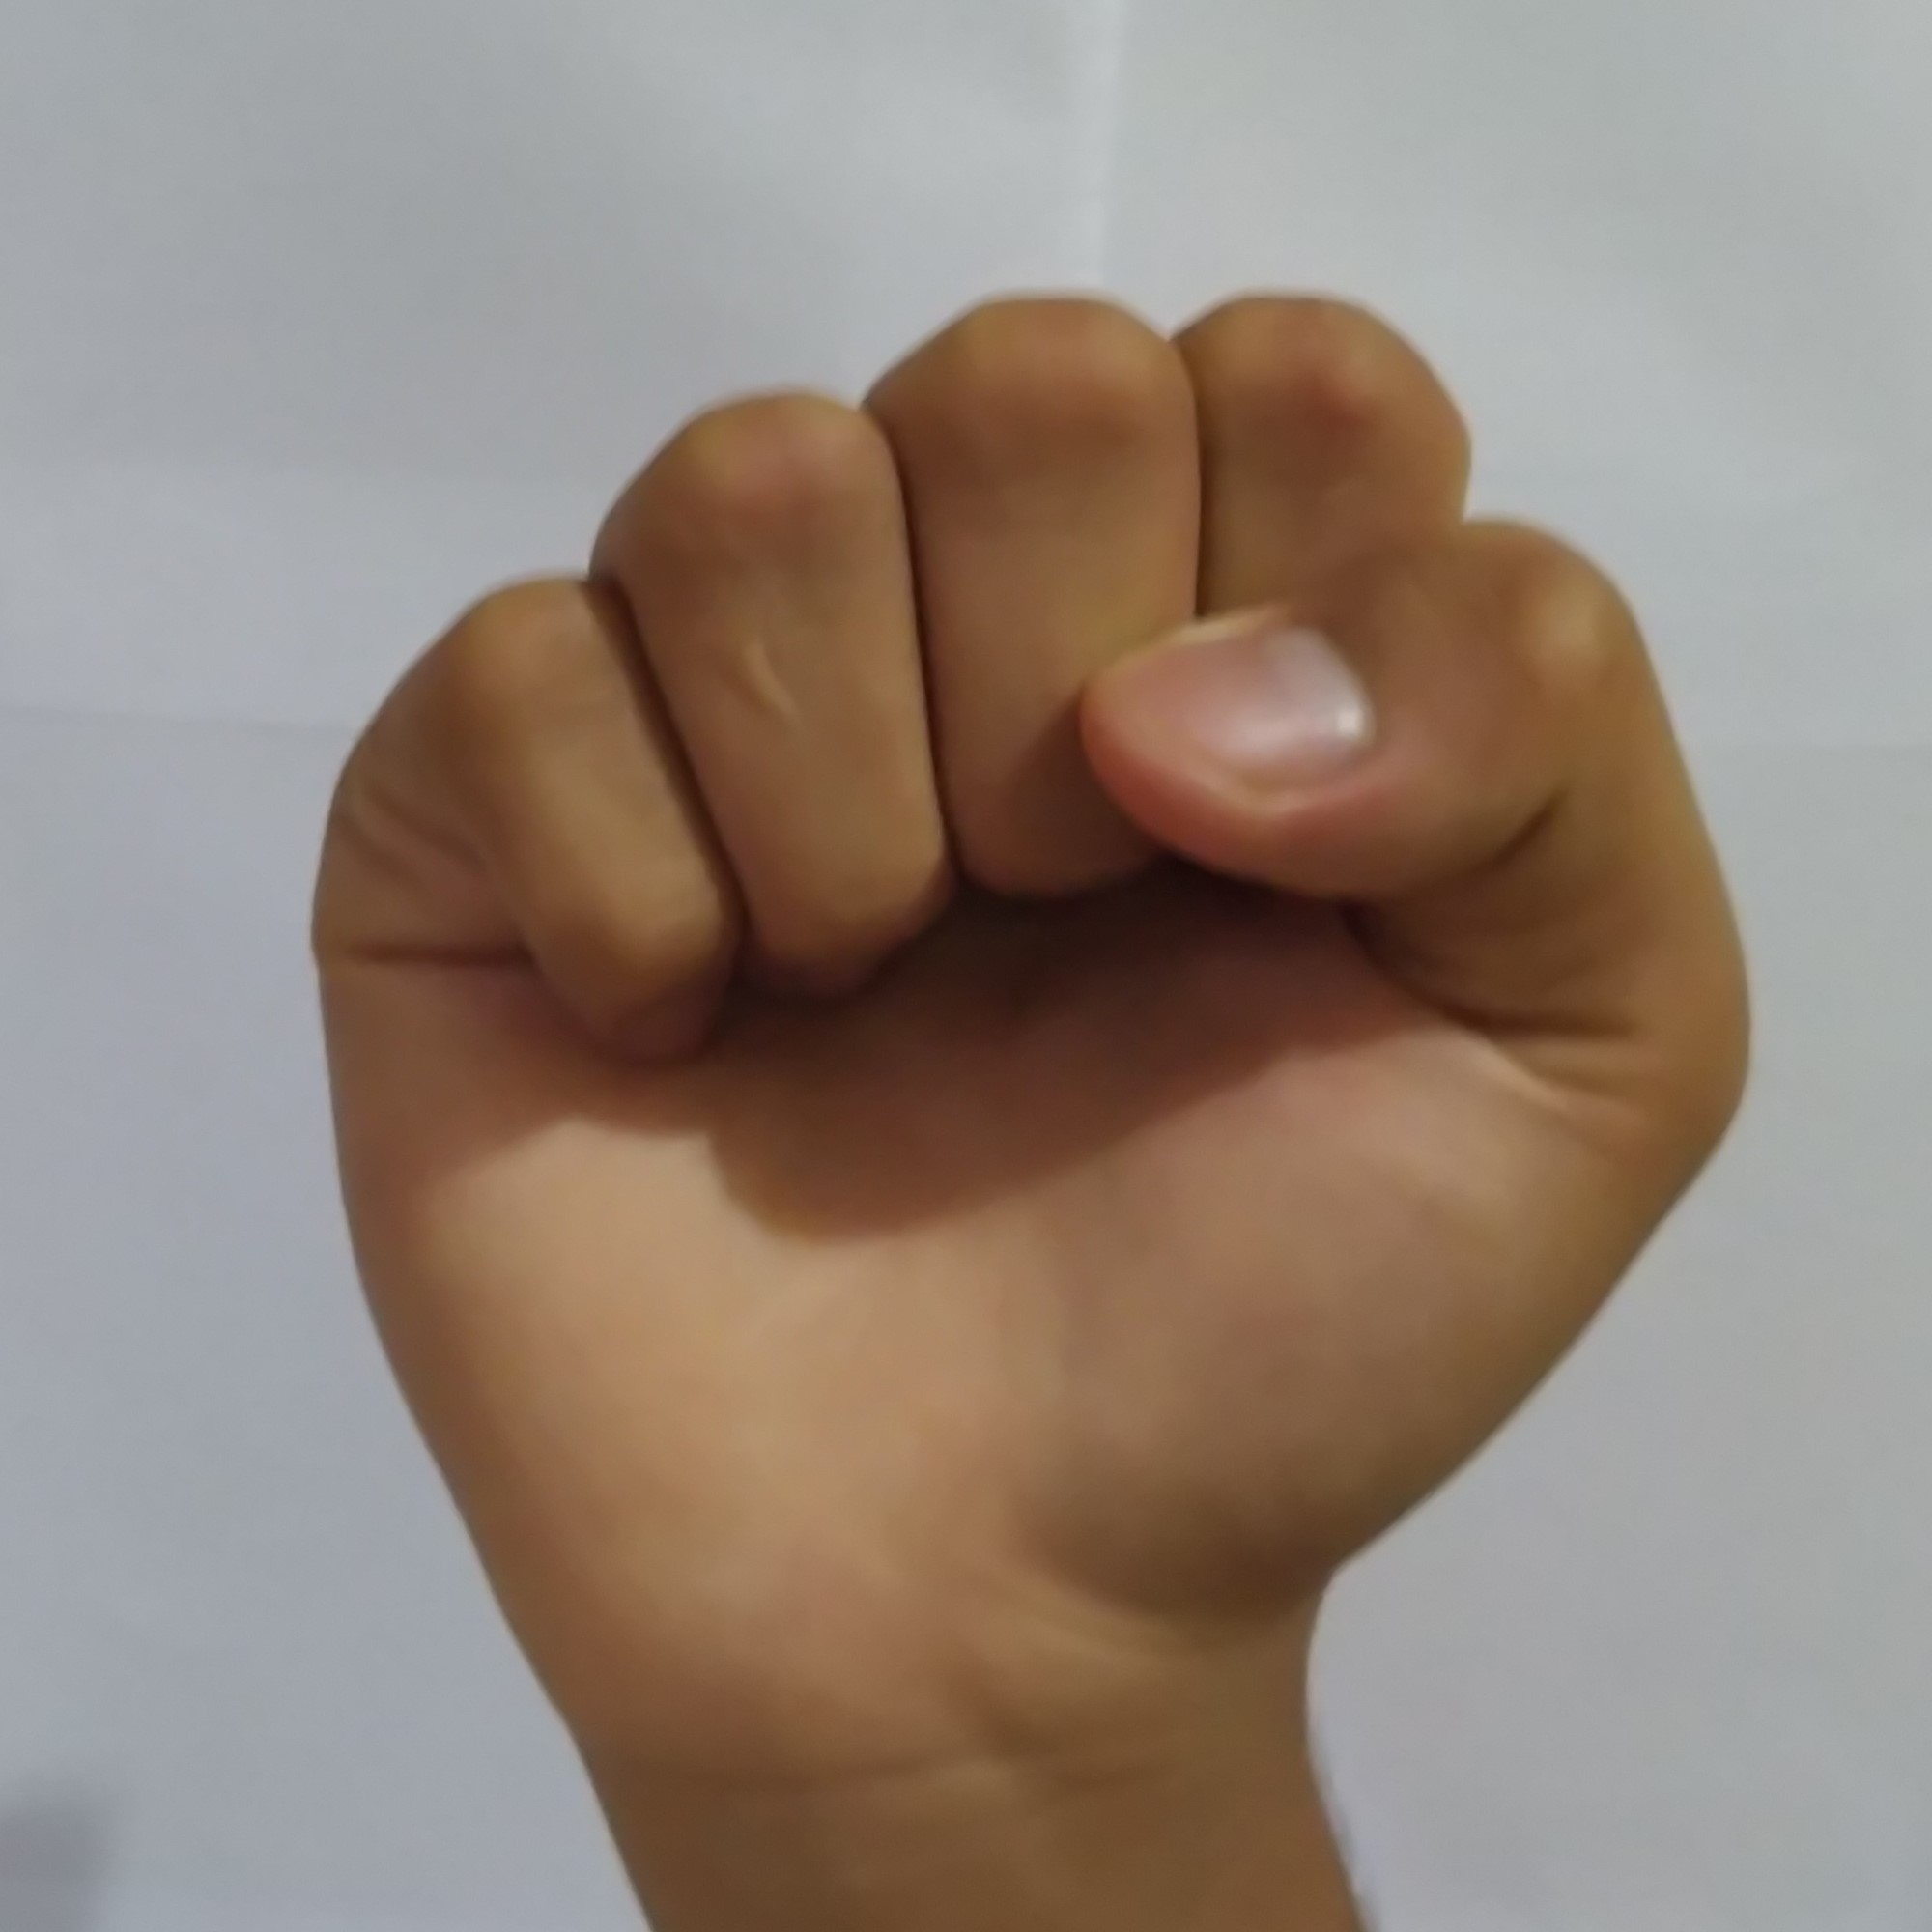S: (271, 258, 1789, 1721)
